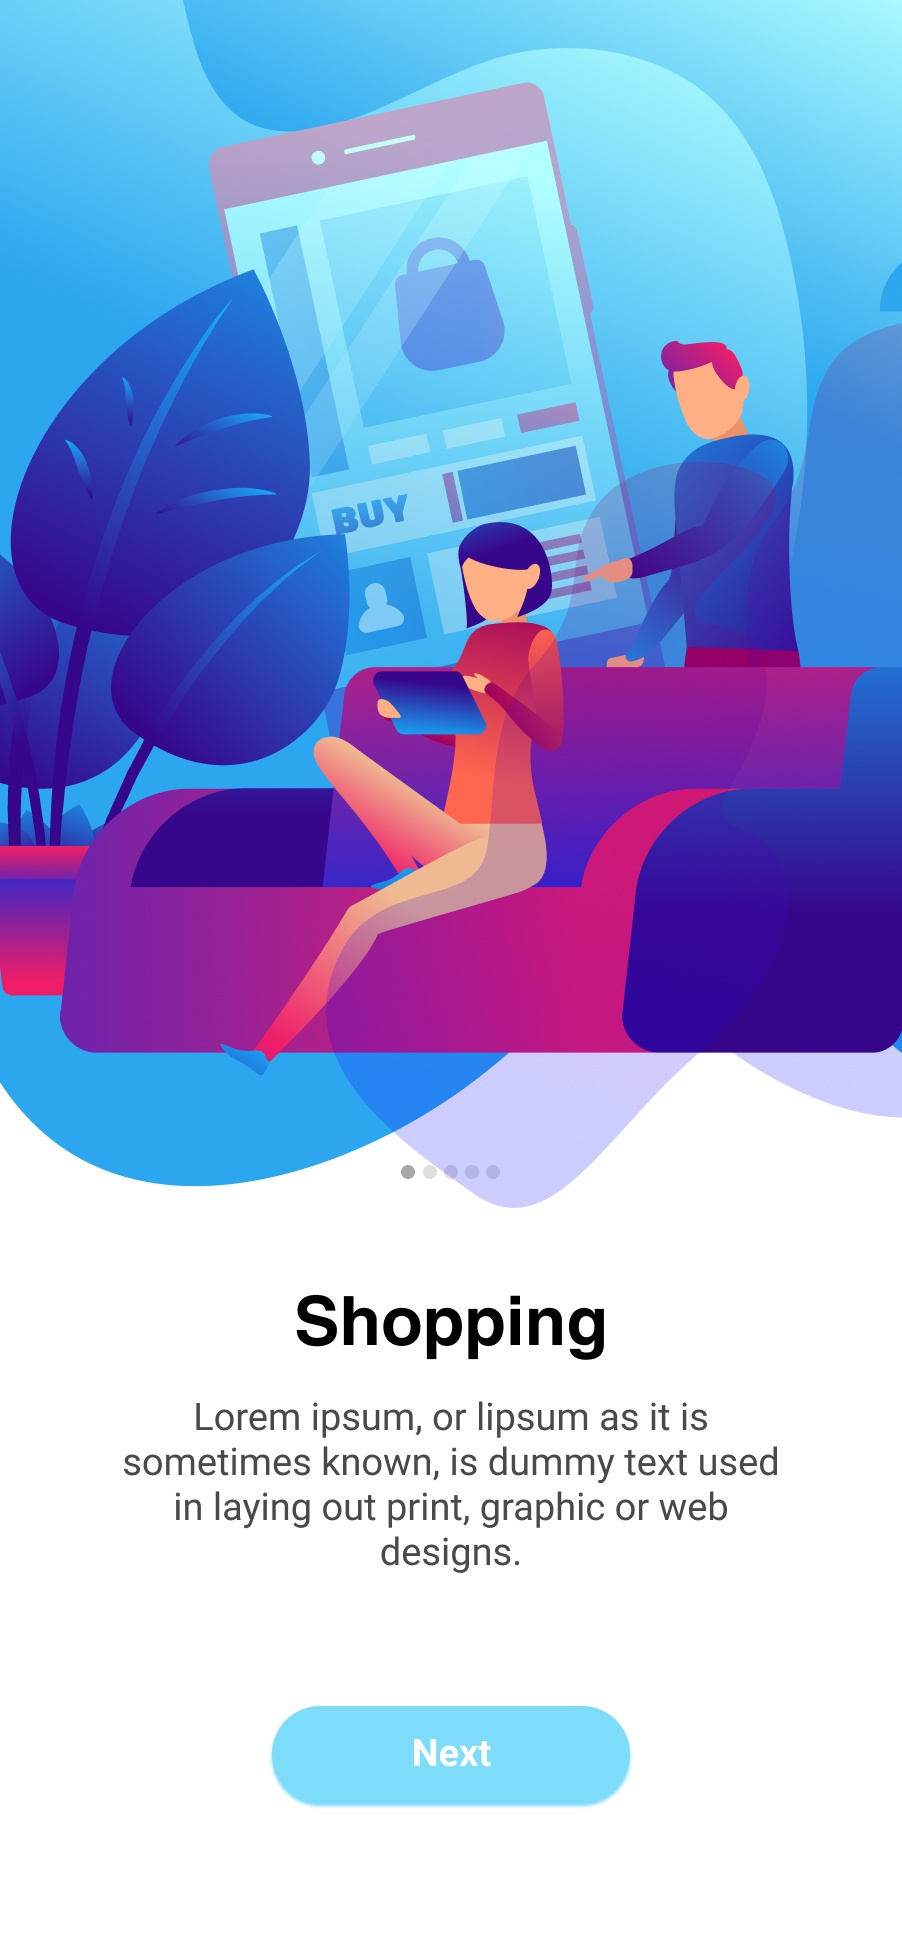Image: (1, 0, 902, 1209)
PageIndicator: (400, 1163, 502, 1181)
Text: (123, 1401, 779, 1576), (297, 1294, 605, 1363)
TextButton: (272, 1705, 630, 1807)
